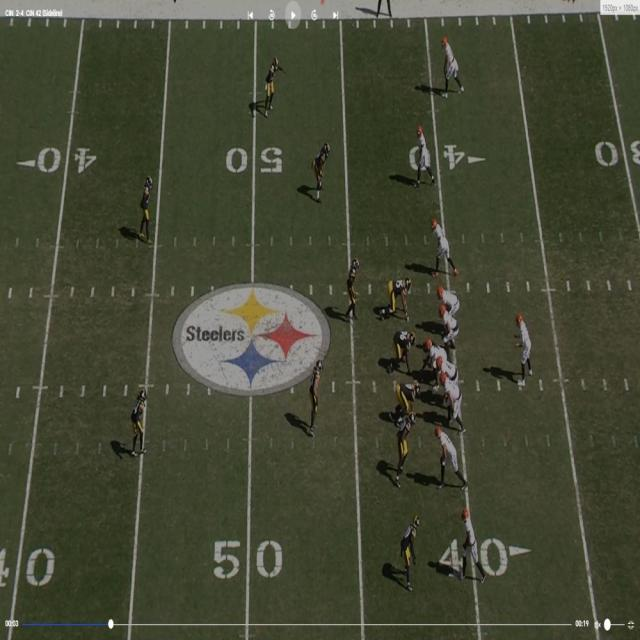center: (423, 337, 442, 377)
db: (398, 412, 416, 483), (401, 519, 416, 587), (267, 59, 281, 118), (133, 394, 144, 454), (141, 176, 151, 239), (318, 142, 330, 194)
lb: (308, 357, 322, 431), (349, 256, 361, 318)
qb: (516, 313, 530, 381)
skill: (438, 422, 462, 478), (444, 36, 462, 90), (464, 511, 481, 568), (436, 220, 454, 272), (417, 126, 434, 178)
